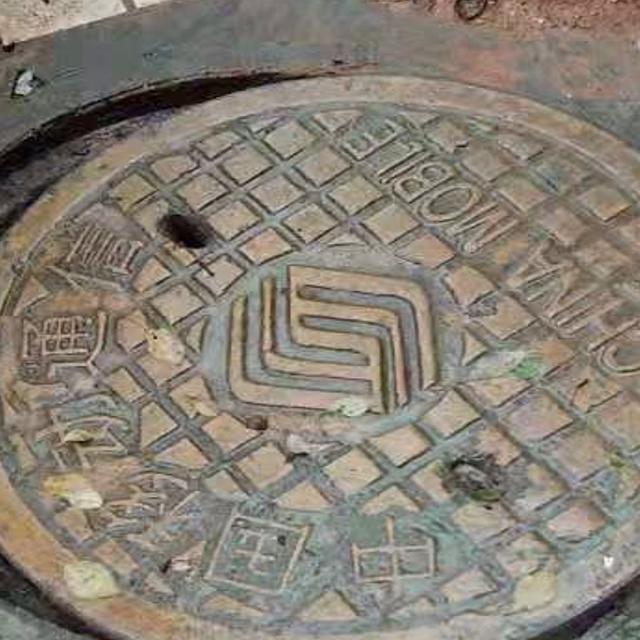uncovered: (0, 48, 640, 640)
